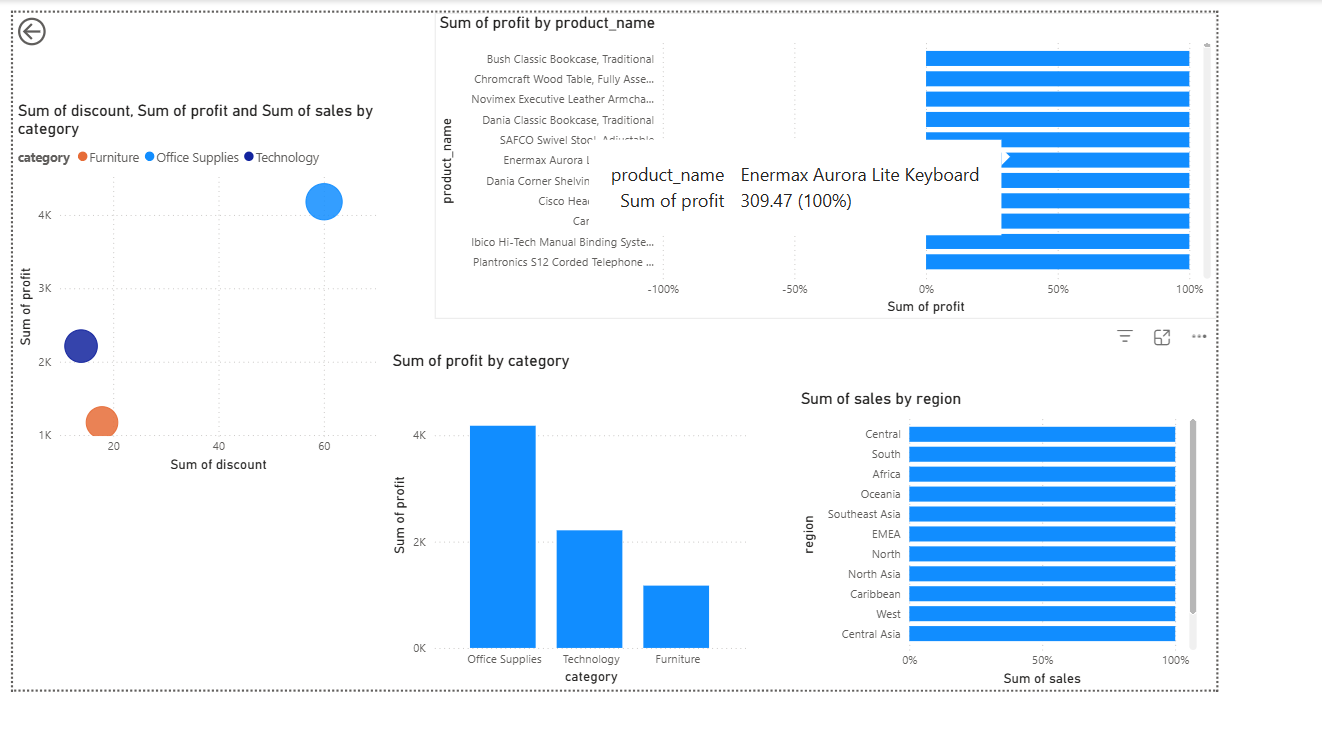

What the dashboard file says about the page in this screenshot:
{"tool":"powerbi","page":{"name":"Profitability Analysis","canvas":[1280,720],"ordinal":2},"visuals":[{"type":"columnChart","fields":{"Category":["ecommerce superstoreorders.category"],"Y":["Sum(ecommerce superstoreorders.profit)"]},"box":[398.8,359.8,387.8,359.8],"z":0},{"type":"clusteredBarChart","fields":{"Category":["ecommerce superstoreorders.region"],"Y":["Sum(ecommerce superstoreorders.sales)"]},"box":[833.5,399.3,431.7,320.9],"z":1000},{"type":"scatterChart","fields":{"X":["Sum(ecommerce superstoreorders.discount)"],"Size":["Sum(ecommerce superstoreorders.sales)"],"Series":["ecommerce superstoreorders.category"],"Y":["Sum(ecommerce superstoreorders.profit)"]},"box":[0,93.9,398.8,398.8],"z":2000},{"type":"clusteredBarChart","fields":{"Category":["ecommerce superstoreorders.product_name"],"Y":["Sum(ecommerce superstoreorders.profit)"]},"box":[449.1,0,831,325.9],"z":3000},{"type":"actionButton","box":[0,0,100,40],"z":4000}]}

Visuals, with their boxes in screenshot pixels (x1, y1, x2, y2), scaled from the page's 1280x720 canvas onto the 1322x756 screenshot:
columnChart - ecommerce superstoreorders.category x Sum(ecommerce superstoreorders.profit): {"x1": 412, "y1": 378, "x2": 812, "y2": 755}
clusteredBarChart - ecommerce superstoreorders.region x Sum(ecommerce superstoreorders.sales): {"x1": 861, "y1": 419, "x2": 1307, "y2": 755}
scatterChart - Sum(ecommerce superstoreorders.discount) x Sum(ecommerce superstoreorders.sales): {"x1": 0, "y1": 99, "x2": 412, "y2": 517}
clusteredBarChart - ecommerce superstoreorders.product_name x Sum(ecommerce superstoreorders.profit): {"x1": 464, "y1": 0, "x2": 1321, "y2": 342}
actionButton: {"x1": 0, "y1": 0, "x2": 103, "y2": 42}
